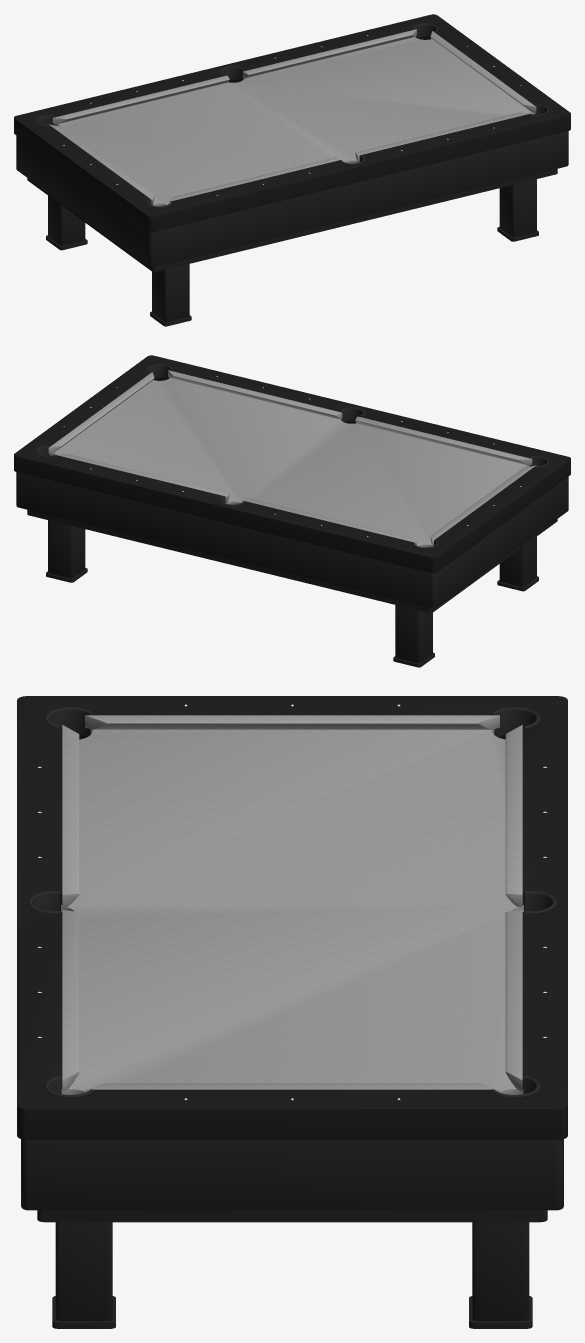
Rendered from table_pro.glb.
3 views of the same model, one above another, from view 1: azimuth 30°, elevation 25°; view 2: azimuth 150°, elevation 25°; view 3: azimuth 270°, elevation 25° (orthographic). The views are drawn at different scales.
Parts seen in each view (by area): view 1: Table_Cloth, Table_Body, Table_Rail, Cushion_0, Cushion_1, Pocket_Liners, Cushion_2, Cushion_3, Cushion_4, Cushion_5; view 2: Table_Cloth, Table_Body, Table_Rail, Cushion_4, Cushion_3, Pocket_Liners, Cushion_2, Cushion_1, Cushion_0, Cushion_5; view 3: Table_Cloth, Table_Rail, Table_Body, Cushion_5, Pocket_Liners, Cushion_1, Cushion_3, Cushion_0, Cushion_4, Cushion_2.
Part boxes in pixels (left/top/right/bottom): Table_Cloth: left=55, top=37, right=535, bottom=206; Table_Body: left=16, top=131, right=568, bottom=326; Table_Rail: left=14, top=14, right=570, bottom=232; Cushion_0: left=52, top=75, right=229, bottom=124; Cushion_1: left=242, top=29, right=416, bottom=78; Pocket_Liners: left=35, top=23, right=549, bottom=207; Cushion_2: left=430, top=31, right=536, bottom=112; Cushion_3: left=355, top=112, right=532, bottom=161; Cushion_4: left=168, top=157, right=342, bottom=204; Cushion_5: left=48, top=124, right=154, bottom=205; Table_Cloth: left=50, top=378, right=529, bottom=547; Table_Body: left=16, top=472, right=568, bottom=667; Table_Rail: left=14, top=355, right=570, bottom=573; Cushion_4: left=355, top=416, right=532, bottom=465; Cushion_3: left=168, top=370, right=342, bottom=419; Pocket_Liners: left=35, top=364, right=549, bottom=548; Cushion_2: left=48, top=372, right=154, bottom=453; Cushion_1: left=52, top=453, right=229, bottom=502; Cushion_0: left=242, top=498, right=416, bottom=545; Cushion_5: left=430, top=465, right=536, bottom=546; Table_Cloth: left=61, top=729, right=523, bottom=1094; Table_Rail: left=17, top=696, right=567, bottom=1139; Table_Body: left=21, top=1139, right=563, bottom=1328; Cushion_5: left=85, top=715, right=499, bottom=729; Pocket_Liners: left=28, top=707, right=556, bottom=1097; Cushion_1: left=505, top=910, right=522, bottom=1092; Cushion_3: left=62, top=910, right=79, bottom=1092; Cushion_0: left=505, top=725, right=522, bottom=907; Cushion_4: left=62, top=725, right=79, bottom=907; Cushion_2: left=85, top=1083, right=499, bottom=1092.
Size of the model in its own units: 2.91 by 0.8039 by 1.64.
Materials: 6 (1 with a texture image).
